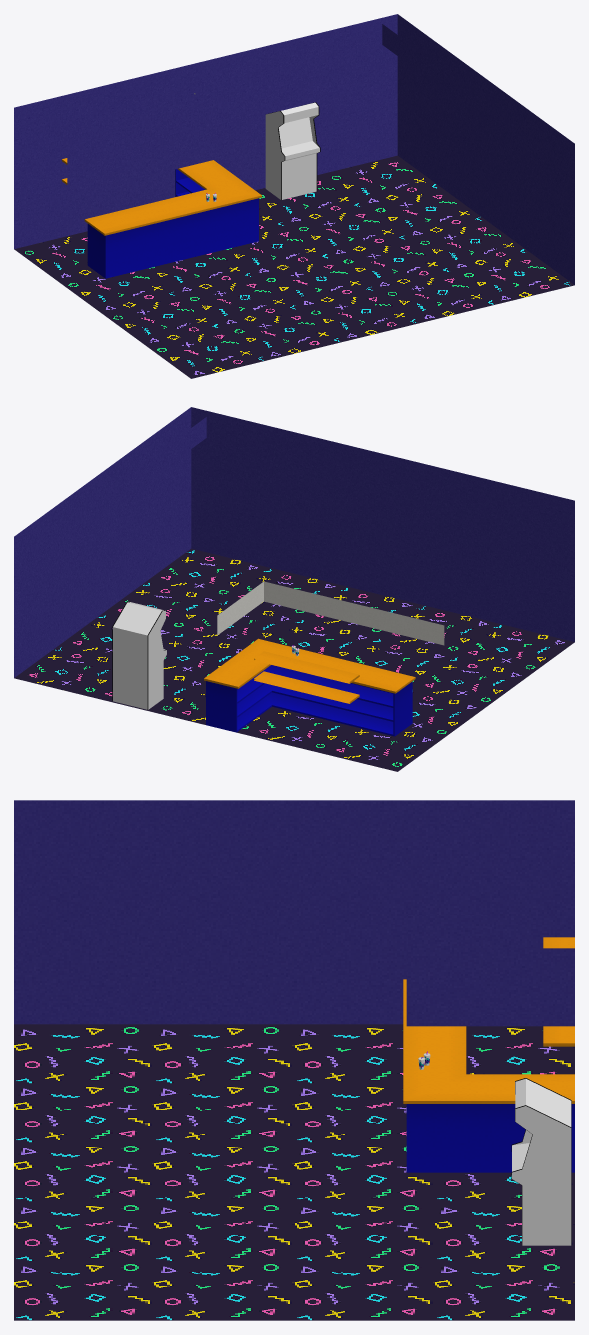
3 views of the same model, one above another, from view 1: azimuth 30°, elevation 25°; view 2: azimuth 150°, elevation 25°; view 3: azimuth 270°, elevation 25° (orthographic). The views are drawn at different scales.
Visible parts, largest first — view 1: Room, Counter1, ArcadeCabinet1; view 2: Room, Counter1, ArcadeCabinet1, Shelf1, Shelf2; view 3: Room, Counter1, ArcadeCabinet1, Shelf1.
Part boxes in pixels (bbox=[...]): Room: bbox=[14, 14, 574, 378]; Counter1: bbox=[84, 160, 261, 278]; ArcadeCabinet1: bbox=[265, 102, 320, 200]; Room: bbox=[14, 407, 574, 771]; Counter1: bbox=[204, 638, 415, 736]; ArcadeCabinet1: bbox=[112, 601, 166, 709]; Shelf1: bbox=[254, 671, 359, 703]; Shelf2: bbox=[254, 651, 359, 683]; Room: bbox=[14, 800, 574, 1320]; Counter1: bbox=[403, 979, 574, 1172]; ArcadeCabinet1: bbox=[511, 1078, 571, 1245]; Shelf1: bbox=[543, 1026, 574, 1046].
Bounding box in the file's own units: 10 × 4.05 × 8.
5 materials, 5 textured.
